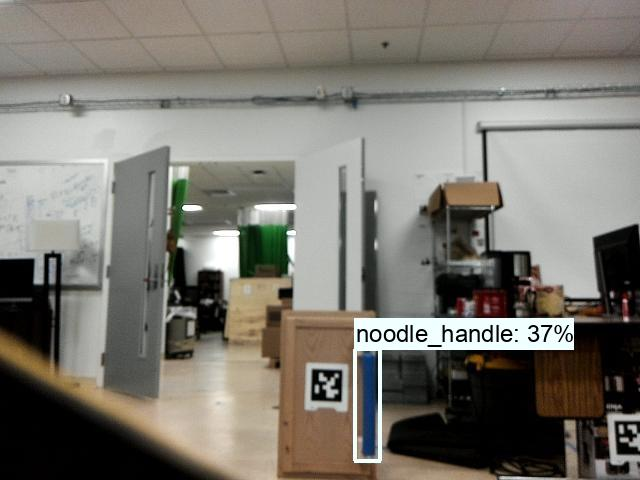noodle_handle: (356, 346, 381, 456)
